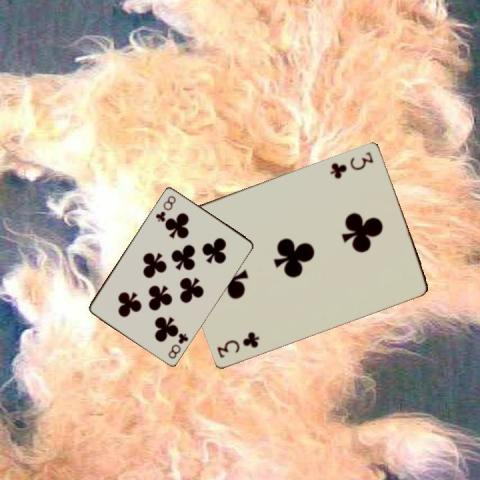3c: (328, 148, 376, 180), (214, 328, 261, 358)
8c: (165, 329, 190, 360), (153, 192, 177, 223)
